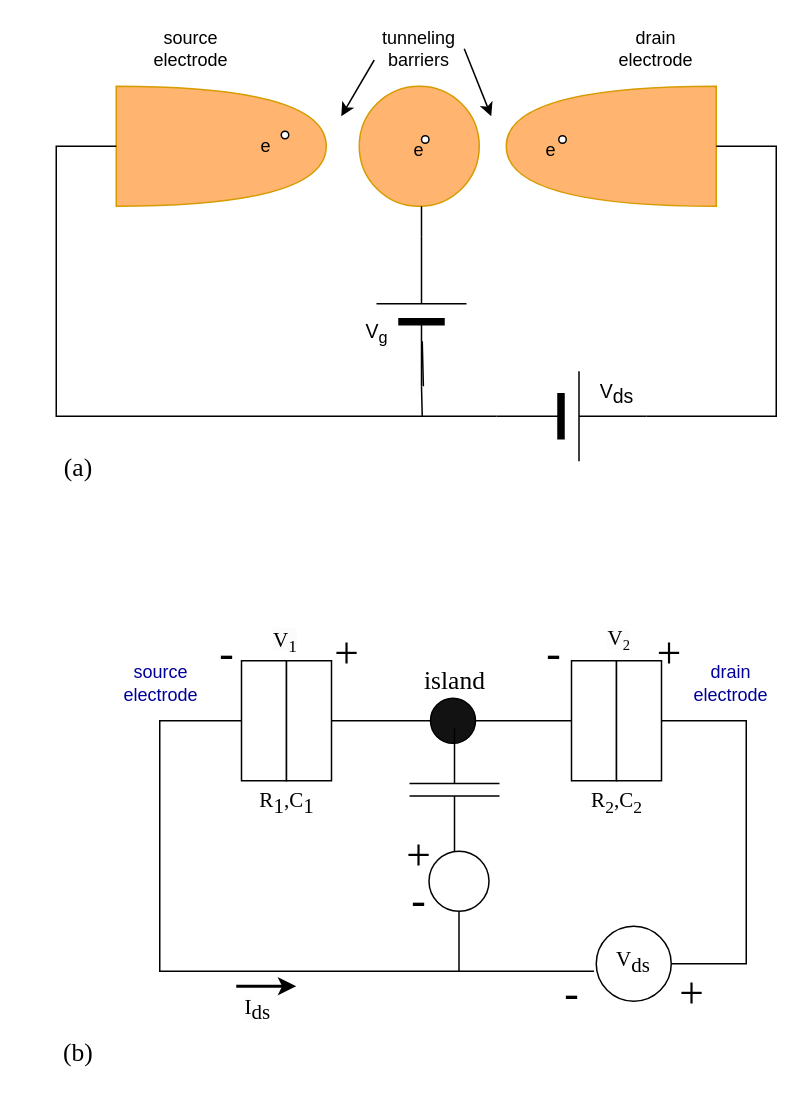
Image size: 804x1101. Some labels were removed from this diagram. The shapes that lost their labels are listed below. From the top down, each one's box as (x1, y1, x2, y2) in pixels, then its label:
(408, 727, 500, 851): C g
(428, 850, 489, 911): Vg
